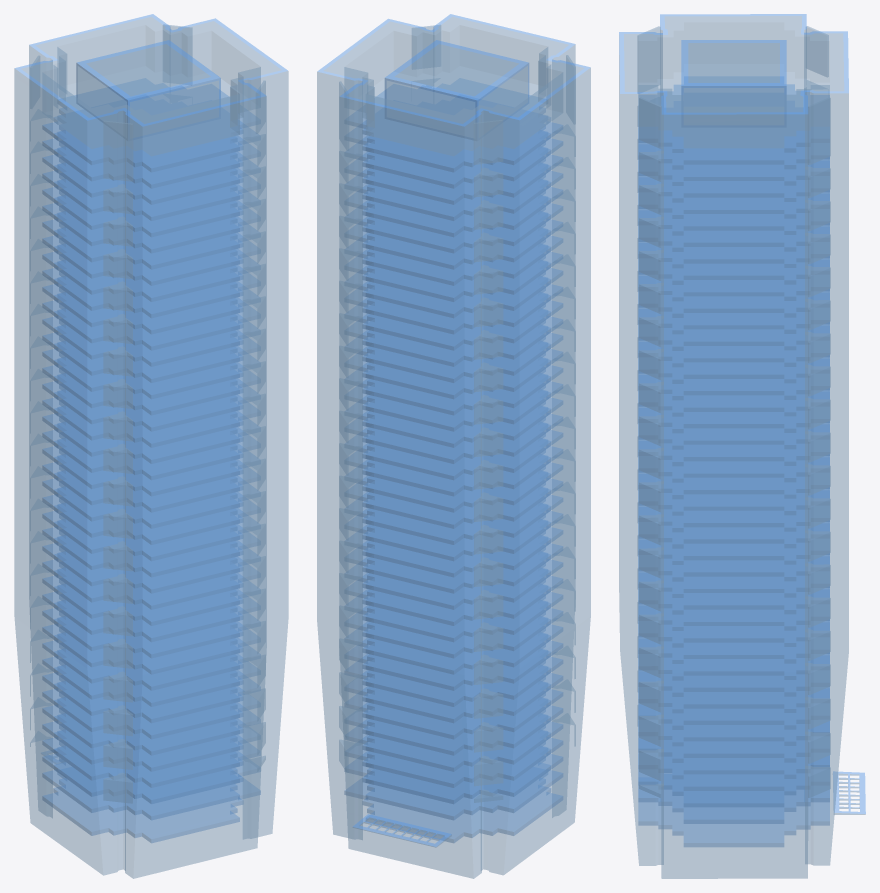
The picture shows the model from 3 angles, left to right: view 1: azimuth 30°, elevation 25°; view 2: azimuth 150°, elevation 25°; view 3: azimuth 270°, elevation 25°; orthographic projection.
Visible parts, largest first — view 1: 1004 2??; view 2: 1004 2??; view 3: 1004 2??.
Part boxes in pixels (bbox=[...]): 1004 2??: bbox=[14, 14, 288, 878]; 1004 2??: bbox=[317, 14, 590, 878]; 1004 2??: bbox=[619, 14, 865, 878].
Bounding box in the file's own units: 50.38 × 180 × 52.17.
Materials: 3 (3 with a texture image).
